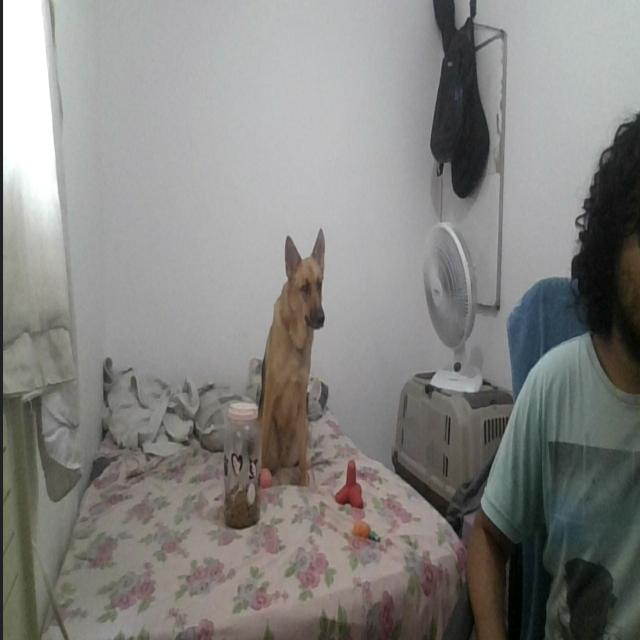bolinha: (258, 464, 274, 490)
brinquedo caro: (332, 460, 365, 508)
cachorro: (258, 227, 325, 496)
cenora de brinquedo: (347, 520, 380, 550)
humano: (471, 116, 639, 640)
racao: (221, 401, 261, 530)
